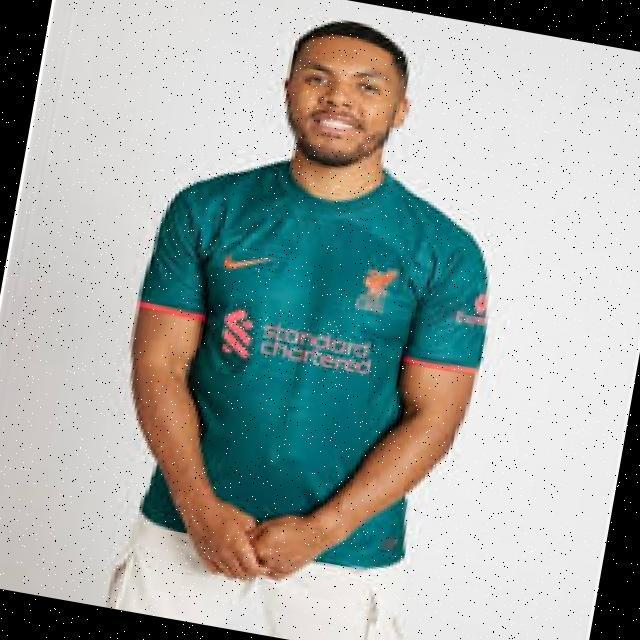Nike: (218, 244, 274, 277)
Standard Chartered: (216, 301, 378, 381)
